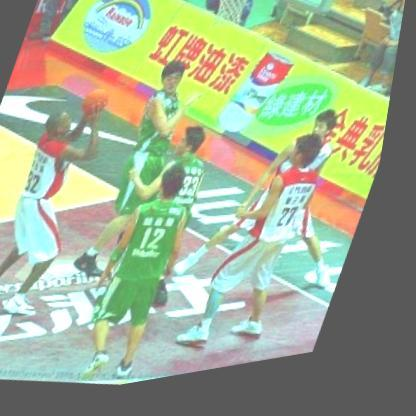basketball: (78, 84, 118, 123)
